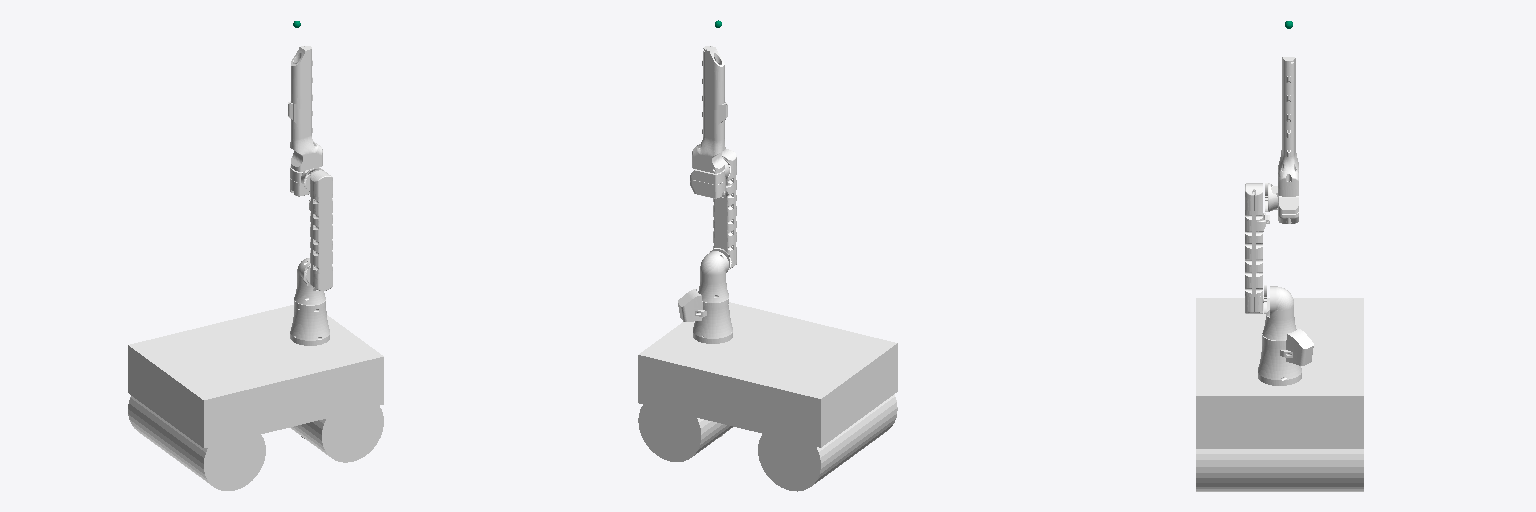
robot.urdf — rigid_arm:
<?xml version="1.0" encoding="utf-8"?>
<!-- =================================================================================== -->
<!-- |    This document was autogenerated by xacro from rigid_arm.urdf.xacro           | -->
<!-- |    EDITING THIS FILE BY HAND IS NOT RECOMMENDED                                 | -->
<!-- =================================================================================== -->
<robot name="rigid_arm">
  <!-- 319 degrees total, 159.5 each way-->
  &gt;


    
  <link name="world"/>
  <joint name="fixed" type="fixed">
    <parent link="world"/>
    <child link="ts_body"/>
  </joint>
  <link name="ts_body">
    <visual>
      <origin rpy="0 0 0" xyz="0 0 0"/>
      <geometry>
        <mesh filename="package://rigid_arm_description/meshes/ts_dummy.dae" scale="1 1 1"/>
      </geometry>
    </visual>
    <collision>
      <origin rpy="0 0 0" xyz="0 0 0"/>
      <geometry>
        <mesh filename="package://rigid_arm_description/meshes/ts_dummy_hull.dae" scale="1 1 1"/>
      </geometry>
    </collision>
    <inertial>
      <mass value="0.1"/>
      <inertia ixx="0.03" ixy="0.0" ixz="0.0" iyy="0.03" iyz="0.0" izz="0.03"/>
    </inertial>
  </link>
  <joint name="sub_joint" type="fixed">
    <origin rpy="0 0 0" xyz="0 0 0.285"/>
    <parent link="ts_body"/>
    <child link="base_link"/>
  </joint>
  <link name="base_link">
    <visual>
      <origin rpy="0 0 2.44346" xyz="0 0 0"/>
      <geometry>
        <mesh filename="package://rigid_arm_description/meshes/base_link.dae" scale="1 1 1"/>
      </geometry>
    </visual>
    <collision>
      <origin rpy="0 0 2.44346" xyz="0 0 0"/>
      <geometry>
        <mesh filename="package://rigid_arm_description/meshes/base_link_hull.dae" scale="1 1 1"/>
      </geometry>
    </collision>
    <inertial>
      <mass value="0.1"/>
      <inertia ixx="0.03" ixy="0.0" ixz="0.0" iyy="0.03" iyz="0.0" izz="0.03"/>
    </inertial>
  </link>
  <joint name="joint_01" type="revolute">
    <axis xyz="0 0 1"/>
    <limit effort="1000.0" lower="-2.782" upper="2.782" velocity="0.5"/>
    <origin rpy="0 0 0" xyz="0 0 0.1135"/>
    <parent link="base_link"/>
    <child link="link1"/>
  </joint>
  <link name="link1">
    <visual>
      <origin rpy="0 0 0" xyz="0 0 0"/>
      <geometry>
        <mesh filename="package://rigid_arm_description/meshes/link_1.dae" scale="1 1 1"/>
      </geometry>
    </visual>
    <collision>
      <origin rpy="0 0 0" xyz="0 0 0"/>
      <geometry>
        <mesh filename="package://rigid_arm_description/meshes/link_1_hull.dae" scale="1 1 1"/>
      </geometry>
    </collision>
    <inertial>
      <mass value="0.1"/>
      <inertia ixx="0.03" ixy="0.0" ixz="0.0" iyy="0.03" iyz="0.0" izz="0.03"/>
    </inertial>
  </link>
  <joint name="joint_02" type="revolute">
    <axis xyz="0 -1 0"/>
    <limit effort="1000.0" lower="-2.782" upper="2.782" velocity="0.5"/>
    <origin rpy="0 0 0" xyz="0 -0.0395 0.0895 "/>
    <parent link="link1"/>
    <child link="link2"/>
  </joint>
  <link name="link2">
    <visual>
      <origin rpy="0 0 0" xyz="0 0 0"/>
      <geometry>
        <mesh filename="package://rigid_arm_description/meshes/link_2.dae" scale="1 1 1"/>
      </geometry>
    </visual>
    <collision>
      <origin rpy="0 0 0" xyz="0 0 0"/>
      <geometry>
        <mesh filename="package://rigid_arm_description/meshes/link_2_hull.dae" scale="1 1 1"/>
      </geometry>
    </collision>
    <inertial>
      <mass value="0.1"/>
      <inertia ixx="0.03" ixy="0.0" ixz="0.0" iyy="0.03" iyz="0.0" izz="0.03"/>
    </inertial>
  </link>
  <joint name="joint_03" type="revolute">
    <axis xyz="0 1 0"/>
    <limit effort="1000.0" lower="-2.782" upper="2.782" velocity="0.5"/>
    <origin rpy="0 0 0" xyz="0 0.0121 0.267"/>
    <parent link="link2"/>
    <child link="link3"/>
  </joint>
  <link name="link3">
    <visual>
      <origin rpy="0 0 0" xyz="0 0 0"/>
      <geometry>
        <mesh filename="package://rigid_arm_description/meshes/link_34.dae" scale="1 1 1"/>
      </geometry>
    </visual>
    <collision>
      <origin rpy="0 0 0" xyz="0 0 0"/>
      <geometry>
        <mesh filename="package://rigid_arm_description/meshes/link_34_hull.dae" scale="1 1 1"/>
      </geometry>
    </collision>
    <inertial>
      <mass value="0.1"/>
      <inertia ixx="0.03" ixy="0.0" ixz="0.0" iyy="0.03" iyz="0.0" izz="0.03"/>
    </inertial>
  </link>
  <joint name="fake_joint_04" type="revolute">
    <axis xyz="0 0 1"/>
    <limit effort="1000.0" lower="-3.14" upper="3.14" velocity="0.5"/>
    <origin rpy="0 0 0" xyz="-0.02775 0.0487 0.4407"/>
    <parent link="link3"/>
    <child link="fake_link1"/>
  </joint>
  <link name="fake_link1">
    <visual>
      <origin rpy="0 0 0" xyz="0 0 0"/>
      <geometry>
        <box size="0.01 0.01 0.01"/>
      </geometry>
    </visual>
    <collision>
      <origin rpy="0 0 0" xyz="0 0 0"/>
      <geometry>
        <box size="0.01 0.01 0.01"/>
      </geometry>
    </collision>
    <inertial>
      <mass value="0.1"/>
      <inertia ixx="0.03" ixy="0.0" ixz="0.0" iyy="0.03" iyz="0.0" izz="0.03"/>
    </inertial>
  </link>
  <joint name="fake_joint_05" type="revolute">
    <axis xyz="0 1 0"/>
    <limit effort="1000.0" lower="-3.14" upper="3.14" velocity="0.5"/>
    <origin rpy="0 0 0" xyz="0 0 0"/>
    <parent link="fake_link1"/>
    <child link="fake_link2"/>
  </joint>
  <link name="fake_link2">
    <visual>
      <origin rpy="0 0 0" xyz="0 0 0"/>
      <geometry>
        <box size="0.01 0.01 0.01"/>
      </geometry>
    </visual>
    <collision>
      <origin rpy="0 0 0" xyz="0 0 0"/>
      <geometry>
        <box size="0.01 0.01 0.01"/>
      </geometry>
    </collision>
    <inertial>
      <mass value="0.1"/>
      <inertia ixx="0.03" ixy="0.0" ixz="0.0" iyy="0.03" iyz="0.0" izz="0.03"/>
    </inertial>
  </link>
  <joint name="fake_joint_06" type="revolute">
    <axis xyz="1 0 0"/>
    <limit effort="1000.0" lower="-3.14" upper="3.14" velocity="0.5"/>
    <origin rpy="0 0 0" xyz="0 0 0"/>
    <parent link="fake_link2"/>
    <child link="fake_link3"/>
  </joint>
  <link name="fake_link3">
    <visual>
      <origin rpy="0 0 0" xyz="0 0 0"/>
      <geometry>
        <box size="0.01 0.01 0.01"/>
      </geometry>
    </visual>
    <collision>
      <origin rpy="0 0 0" xyz="0 0 0"/>
      <geometry>
        <box size="0.01 0.01 0.01"/>
      </geometry>
    </collision>
    <inertial>
      <mass value="0.1"/>
      <inertia ixx="0.03" ixy="0.0" ixz="0.0" iyy="0.03" iyz="0.0" izz="0.03"/>
    </inertial>
  </link>
  <joint name="ee_fixed_joint" type="fixed">
    <origin rpy="0 0 0" xyz="0 0 .0"/>
    <parent link="fake_link3"/>
    <child link="ee_link"/>
  </joint>
  <link name="ee_link">
    <visual>
      <origin rpy="0 0 0" xyz="0 0 0"/>
      <geometry>
        <box size="0.01 0.01 0.01"/>
      </geometry>
    </visual>
    <collision>
      <origin rpy="0 0 0" xyz="0 0 0"/>
      <geometry>
        <box size="0.01 0.01 0.01"/>
      </geometry>
    </collision>
    <inertial>
      <mass value="0.1"/>
      <inertia ixx="0.03" ixy="0.0" ixz="0.0" iyy="0.03" iyz="0.0" izz="0.03"/>
    </inertial>
  </link>
  <joint name="hand_joint" type="revolute">
    <axis xyz="0 0 1"/>
    <limit effort="100.0" lower="-3.14" upper="3.14" velocity="0.5"/>
    <origin rpy="0 0 0" xyz="0 0 0"/>
    <parent link="ee_link"/>
    <child link="link5"/>
  </joint>
  <link name="link5">
    <visual>
      <origin rpy="0 0 0" xyz="0 0 0"/>
      <geometry>
        <sphere radius=".01"/>
      </geometry>
    </visual>
    <collision>
      <origin rpy="0 0 0" xyz="0 0 0"/>
      <geometry>
        <sphere radius=".01"/>
      </geometry>
    </collision>
    <inertial>
      <mass value="0.1"/>
      <inertia ixx="0.03" ixy="0.0" ixz="0.0" iyy="0.03" iyz="0.0" izz="0.03"/>
    </inertial>
  </link>
  <transmission name="trans_joint_01">
    <type>transmission_interface/SimpleTransmission</type>
    <joint name="joint_01">
      <hardwareInterface>hardware_interface/PositionJointInterface</hardwareInterface>
    </joint>
    <actuator name="joint_01_motor">
      <hardwareInterface>hardware_interface/PositionJointInterface</hardwareInterface>
      <mechanicalReduction>1</mechanicalReduction>
    </actuator>
  </transmission>
  <transmission name="trans_joint_02">
    <type>transmission_interface/SimpleTransmission</type>
    <joint name="joint_02">
      <hardwareInterface>hardware_interface/PositionJointInterface</hardwareInterface>
    </joint>
    <actuator name="joint_02_motor">
      <hardwareInterface>hardware_interface/PositionJointInterface</hardwareInterface>
      <mechanicalReduction>1</mechanicalReduction>
    </actuator>
  </transmission>
  <transmission name="trans_joint_03">
    <type>transmission_interface/SimpleTransmission</type>
    <joint name="joint_03">
      <hardwareInterface>hardware_interface/PositionJointInterface</hardwareInterface>
    </joint>
    <actuator name="joint_03_motor">
      <hardwareInterface>hardware_interface/PositionJointInterface</hardwareInterface>
      <mechanicalReduction>1</mechanicalReduction>
    </actuator>
  </transmission>
  <transmission name="trans_fake_joint_04">
    <type>transmission_interface/SimpleTransmission</type>
    <joint name="fake_joint_04">
      <hardwareInterface>hardware_interface/PositionJointInterface</hardwareInterface>
    </joint>
    <actuator name="fake_joint_04_motor">
      <hardwareInterface>hardware_interface/PositionJointInterface</hardwareInterface>
      <mechanicalReduction>1</mechanicalReduction>
    </actuator>
  </transmission>
  <transmission name="trans_fake_joint_05">
    <type>transmission_interface/SimpleTransmission</type>
    <joint name="fake_joint_05">
      <hardwareInterface>hardware_interface/PositionJointInterface</hardwareInterface>
    </joint>
    <actuator name="fake_joint_05_motor">
      <hardwareInterface>hardware_interface/PositionJointInterface</hardwareInterface>
      <mechanicalReduction>1</mechanicalReduction>
    </actuator>
  </transmission>
  <transmission name="trans_fake_joint_06">
    <type>transmission_interface/SimpleTransmission</type>
    <joint name="fake_joint_06">
      <hardwareInterface>hardware_interface/PositionJointInterface</hardwareInterface>
    </joint>
    <actuator name="fake_joint_06_motor">
      <hardwareInterface>hardware_interface/PositionJointInterface</hardwareInterface>
      <mechanicalReduction>1</mechanicalReduction>
    </actuator>
  </transmission>
  <gazebo>
    <plugin filename="libgazebo_ros_control.so" name="gazebo_ros_control">
      <robotNamespace>/</robotNamespace>
    </plugin>
  </gazebo>
</robot>

--- Render facts (derived) ---
The picture shows the robot from 3 angles, left to right: view 1: azimuth 30°, elevation 25°; view 2: azimuth 150°, elevation 25°; view 3: azimuth 270°, elevation 25°; orthographic projection.
Robot: rigid_arm — 11 links, 10 joints (7 revolute, 3 fixed); root link world; default pose: every joint at zero.
Links seen in each view (by area): view 1: ts_body, link3, link2, base_link, link1; view 2: ts_body, link3, base_link, link2, link1; view 3: ts_body, link3, link2, base_link, link1.
Link boxes in pixels (left/top/right/bottom): ts_body: left=128, top=305, right=383, bottom=490; link3: left=288, top=46, right=323, bottom=196; link2: left=305, top=170, right=332, bottom=290; base_link: left=290, top=300, right=329, bottom=345; link1: left=294, top=258, right=325, bottom=304; ts_body: left=638, top=302, right=897, bottom=491; link3: left=690, top=46, right=730, bottom=198; base_link: left=678, top=289, right=732, bottom=343; link2: left=709, top=149, right=736, bottom=269; link1: left=698, top=251, right=728, bottom=302; ts_body: left=1196, top=298, right=1363, bottom=491; link3: left=1265, top=57, right=1298, bottom=223; link2: left=1245, top=183, right=1269, bottom=313; base_link: left=1258, top=328, right=1313, bottom=385; link1: left=1262, top=286, right=1296, bottom=340.
Size in the robot's own frame: 0.55 by 0.4 by 1.21 metres.
5 mesh visuals loaded from 5 distinct referenced files (5 Collada DAE).